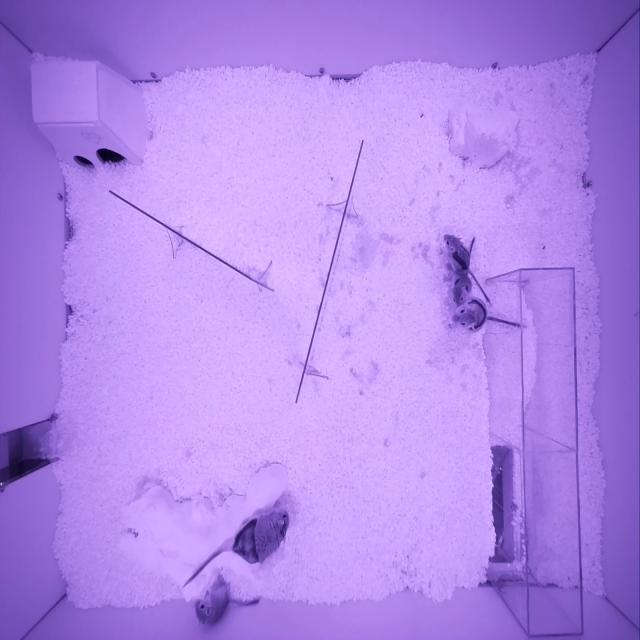adult_back: (232, 508, 290, 564)
pup_fluffy: (195, 571, 231, 626)
pup_h_stripe: (451, 297, 488, 333)
pup_spotted: (449, 273, 471, 307)
pup_v_stripe: (443, 233, 471, 275)
